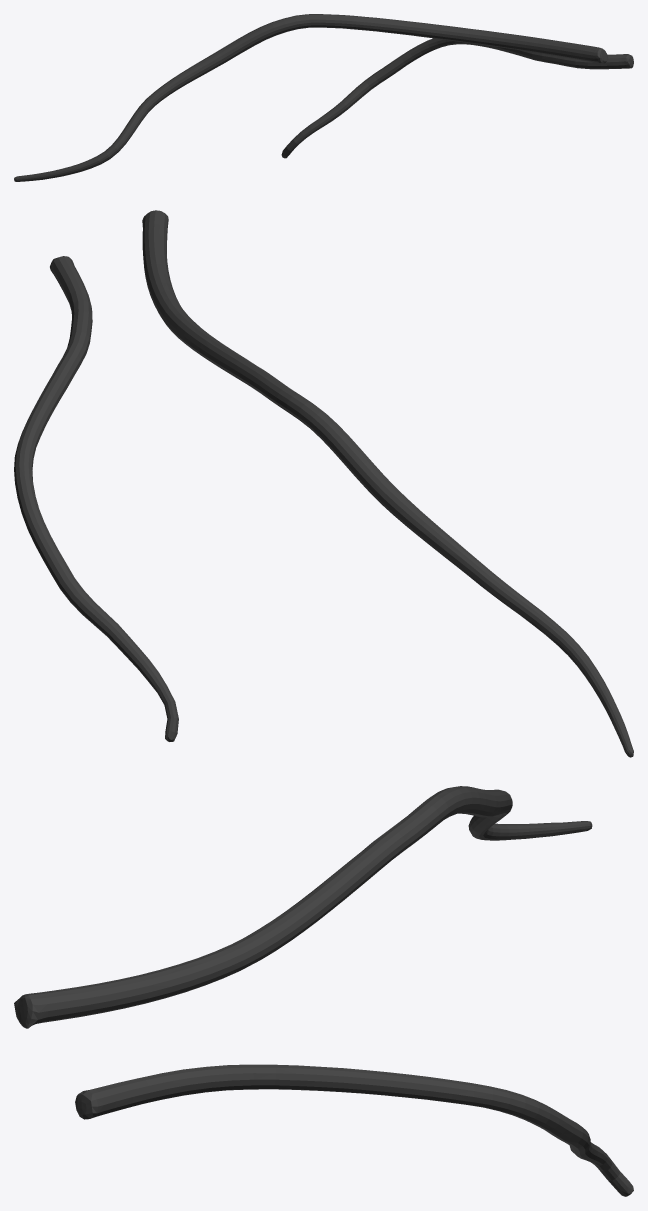
File: NERVE_Tympanic_plexus_L.glb
The picture shows the model from 3 angles, top to bottom: view 1: azimuth 30°, elevation 25°; view 2: azimuth 150°, elevation 25°; view 3: azimuth 270°, elevation 25°; orthographic projection. The views are drawn at different scales.
Visible parts, largest first — view 1: NERVE_Tympanic_plexus_L; view 2: NERVE_Tympanic_plexus_L; view 3: NERVE_Tympanic_plexus_L.
Part boxes in pixels (x1,y1,x2,y2): NERVE_Tympanic_plexus_L: (14, 14, 633, 181); NERVE_Tympanic_plexus_L: (14, 210, 633, 757); NERVE_Tympanic_plexus_L: (14, 786, 633, 1196).
Bounding box in the file's own units: 3.68 × 1.33 × 2.05.
Materials: 1 (1 with a texture image).
